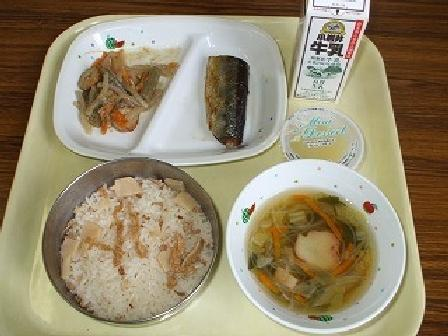Cup desserts: (285, 102, 367, 175)
Fish: (188, 49, 272, 138)
Milk: (290, 0, 374, 105)
Mixed rice: (32, 153, 222, 323)
Soups: (223, 165, 411, 330), (77, 44, 167, 123)
